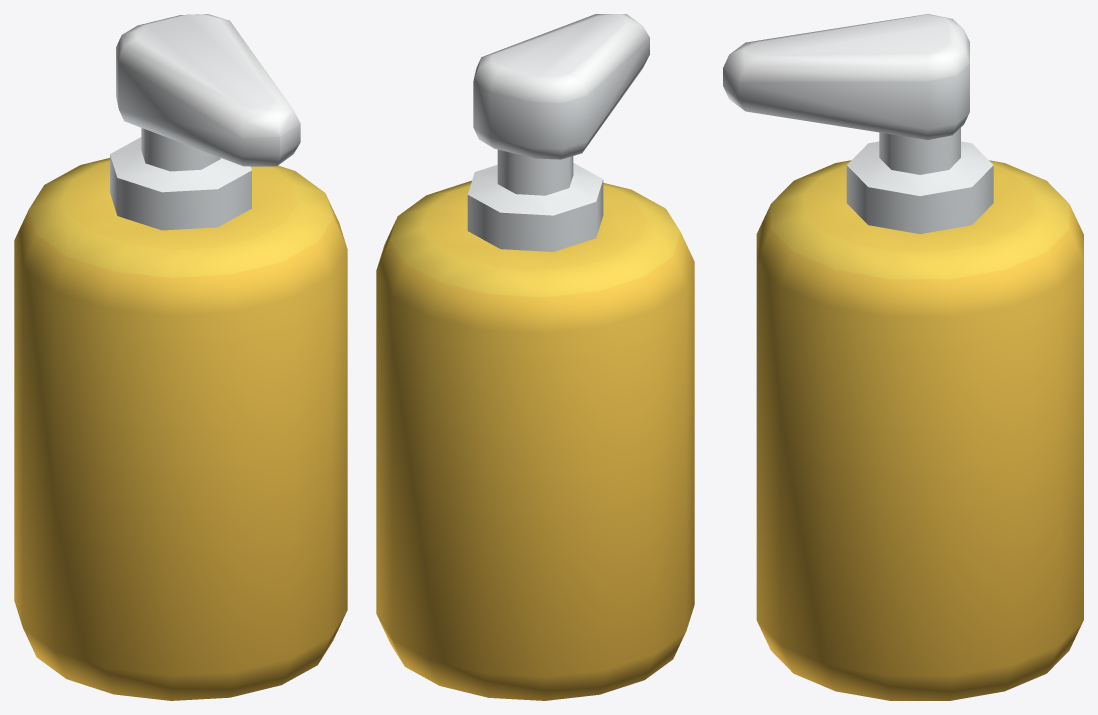
The model's file is Container Bathroom D.glb.
The picture shows the model from 3 angles, left to right: view 1: azimuth 30°, elevation 25°; view 2: azimuth 150°, elevation 25°; view 3: azimuth 270°, elevation 25°; orthographic projection. The views are drawn at different scales.
Parts seen in each view (by area): view 1: container_bathroom_D_yellow; view 2: container_bathroom_D_yellow; view 3: container_bathroom_D_yellow.
Boxes of the visible parts, left/top/right/bottom form: container_bathroom_D_yellow: left=14, top=14, right=347, bottom=700; container_bathroom_D_yellow: left=376, top=14, right=694, bottom=700; container_bathroom_D_yellow: left=723, top=14, right=1083, bottom=700.
Bounding box in the file's own units: 0.312 × 0.65 × 0.3445.
1 material, 1 textured.
